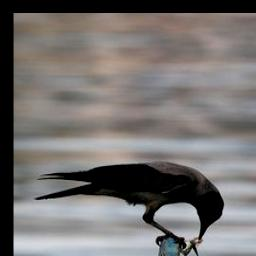Crow: (33, 159, 224, 248)
